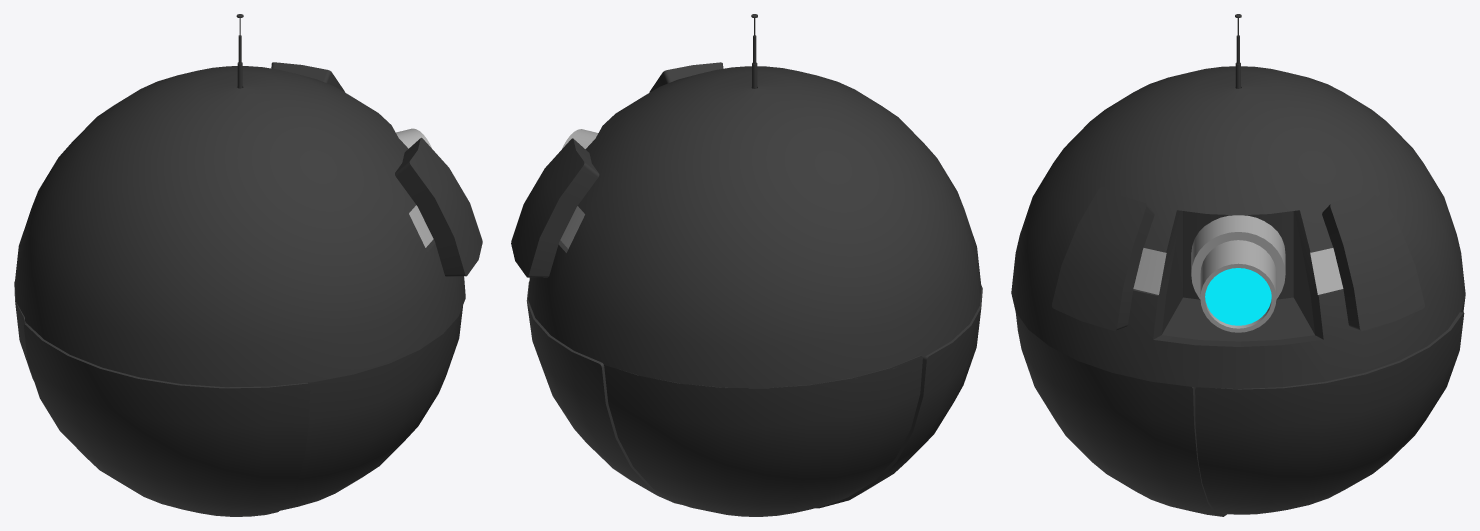
The model's file is PititRobotBallIdle.glb.
3 renders of one model, left to right at view 1: azimuth 30°, elevation 25°; view 2: azimuth 150°, elevation 25°; view 3: azimuth 270°, elevation 25°, orthographic.
Parts seen in each view (by area): view 1: robot scan ball.001; view 2: robot scan ball.001; view 3: robot scan ball.001.
Part boxes in pixels (x1=…): robot scan ball.001: x1=14, y1=14, x2=482, y2=516; robot scan ball.001: x1=511, y1=14, x2=982, y2=516; robot scan ball.001: x1=1011, y1=14, x2=1465, y2=516.
Bounding box in the file's own units: 2.01 × 2.35 × 2.
